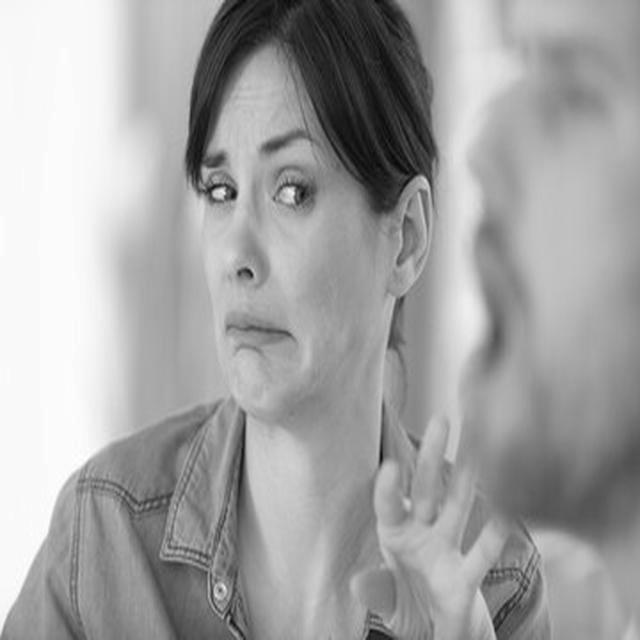Disgust: (196, 41, 391, 421)
